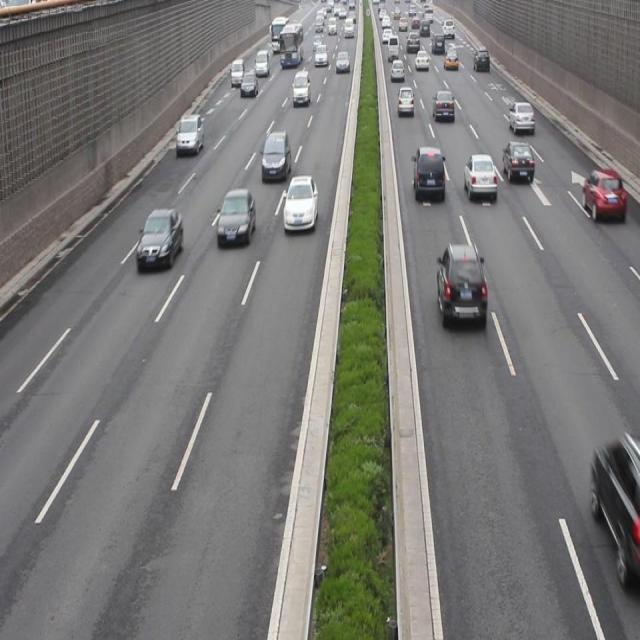car: (589, 435, 640, 585), (436, 242, 484, 326), (136, 209, 182, 267), (581, 169, 625, 226), (218, 190, 255, 250), (283, 176, 317, 231), (462, 153, 495, 200), (261, 132, 290, 182), (501, 140, 532, 184), (176, 113, 203, 154), (508, 98, 534, 139)
truck: (412, 144, 444, 202)
